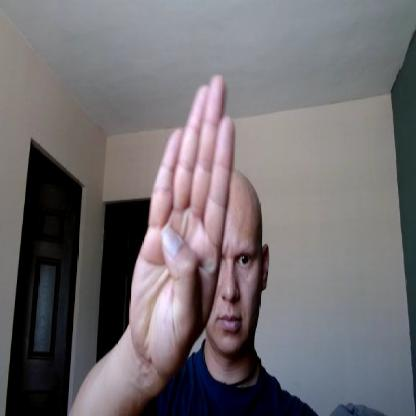B: (129, 74, 236, 369)
